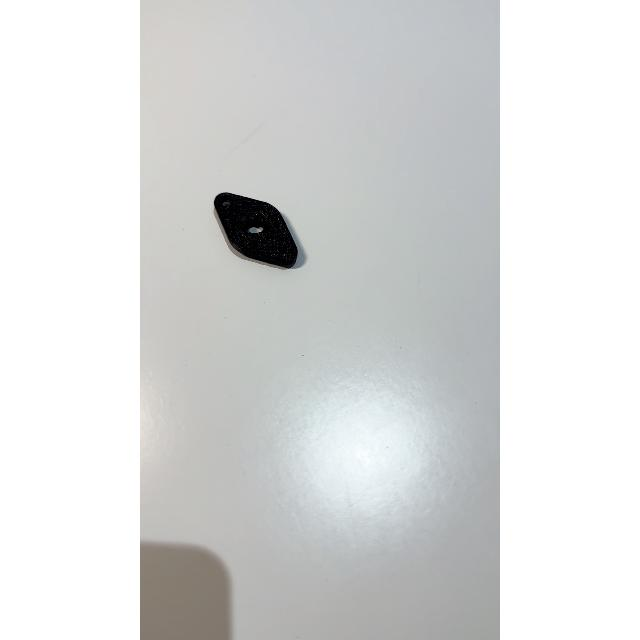Pieza_2: (204, 179, 302, 279)
